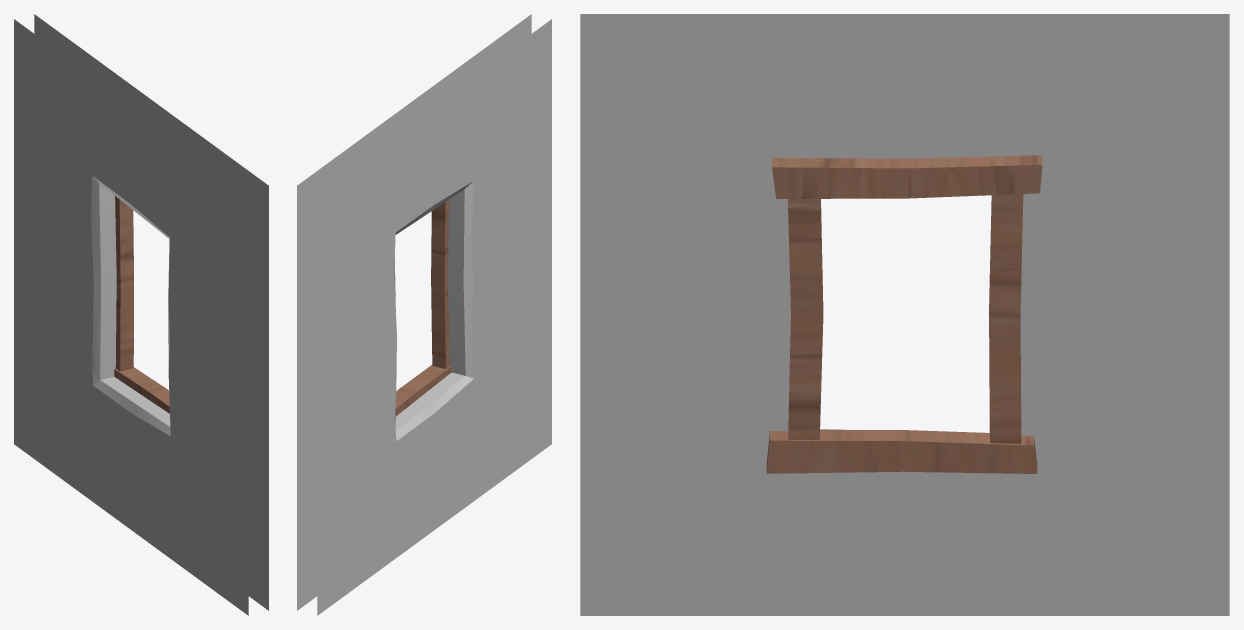
The model's file is SM_wall_04.fbx.
3 renders of one model, left to right at view 1: azimuth 30°, elevation 25°; view 2: azimuth 150°, elevation 25°; view 3: azimuth 270°, elevation 25°, orthographic. The views are drawn at different scales.
Visible parts, largest first — view 1: SM_wall_04_LOD0; view 2: SM_wall_04_LOD0; view 3: SM_wall_04_LOD0.
Part boxes in pixels (bbox=[...]): SM_wall_04_LOD0: bbox=[14, 14, 268, 615]; SM_wall_04_LOD0: bbox=[297, 14, 551, 615]; SM_wall_04_LOD0: bbox=[580, 14, 1229, 615].
Bounding box in the file's own units: 34.05 × 400 × 400.
